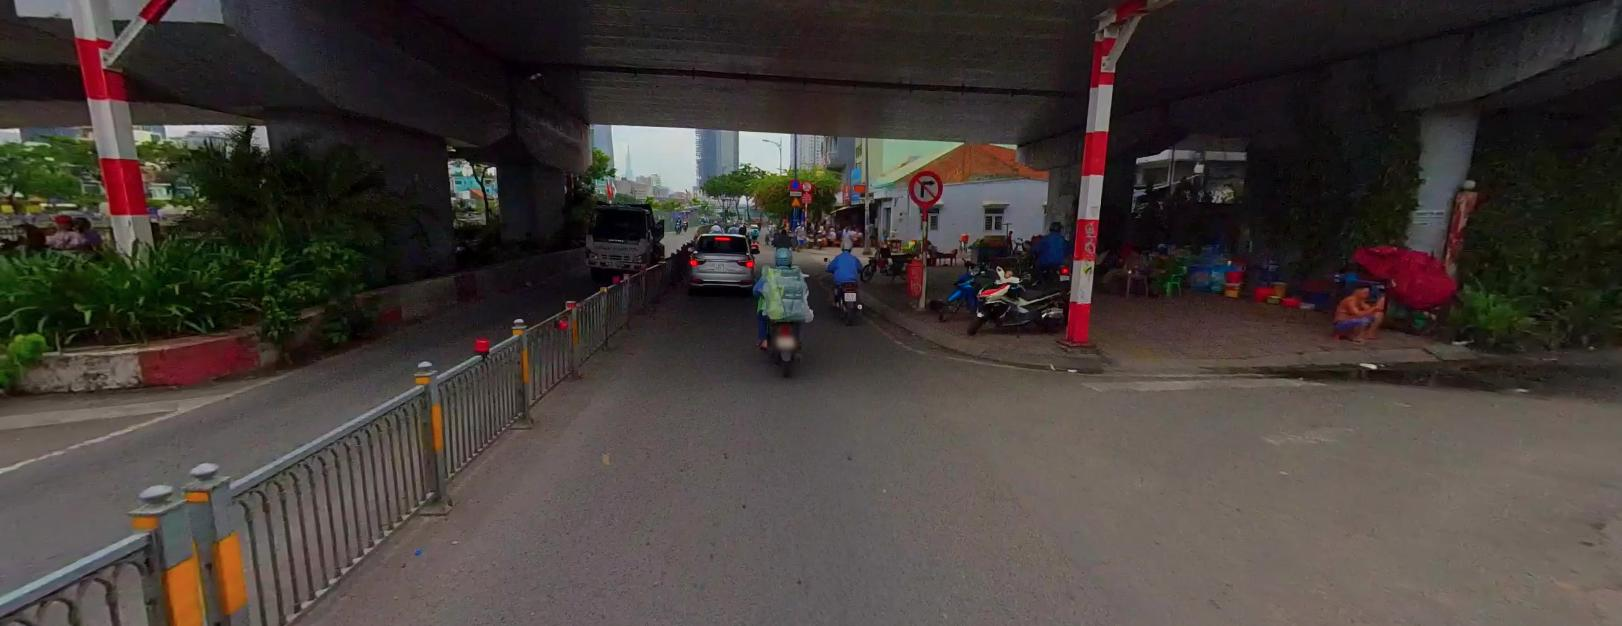Cam con lai: (802, 179, 812, 189)
Cam dung va do: (789, 176, 800, 188)
Cam re: (908, 168, 943, 205)
Nguy hiem: (790, 195, 800, 205)
